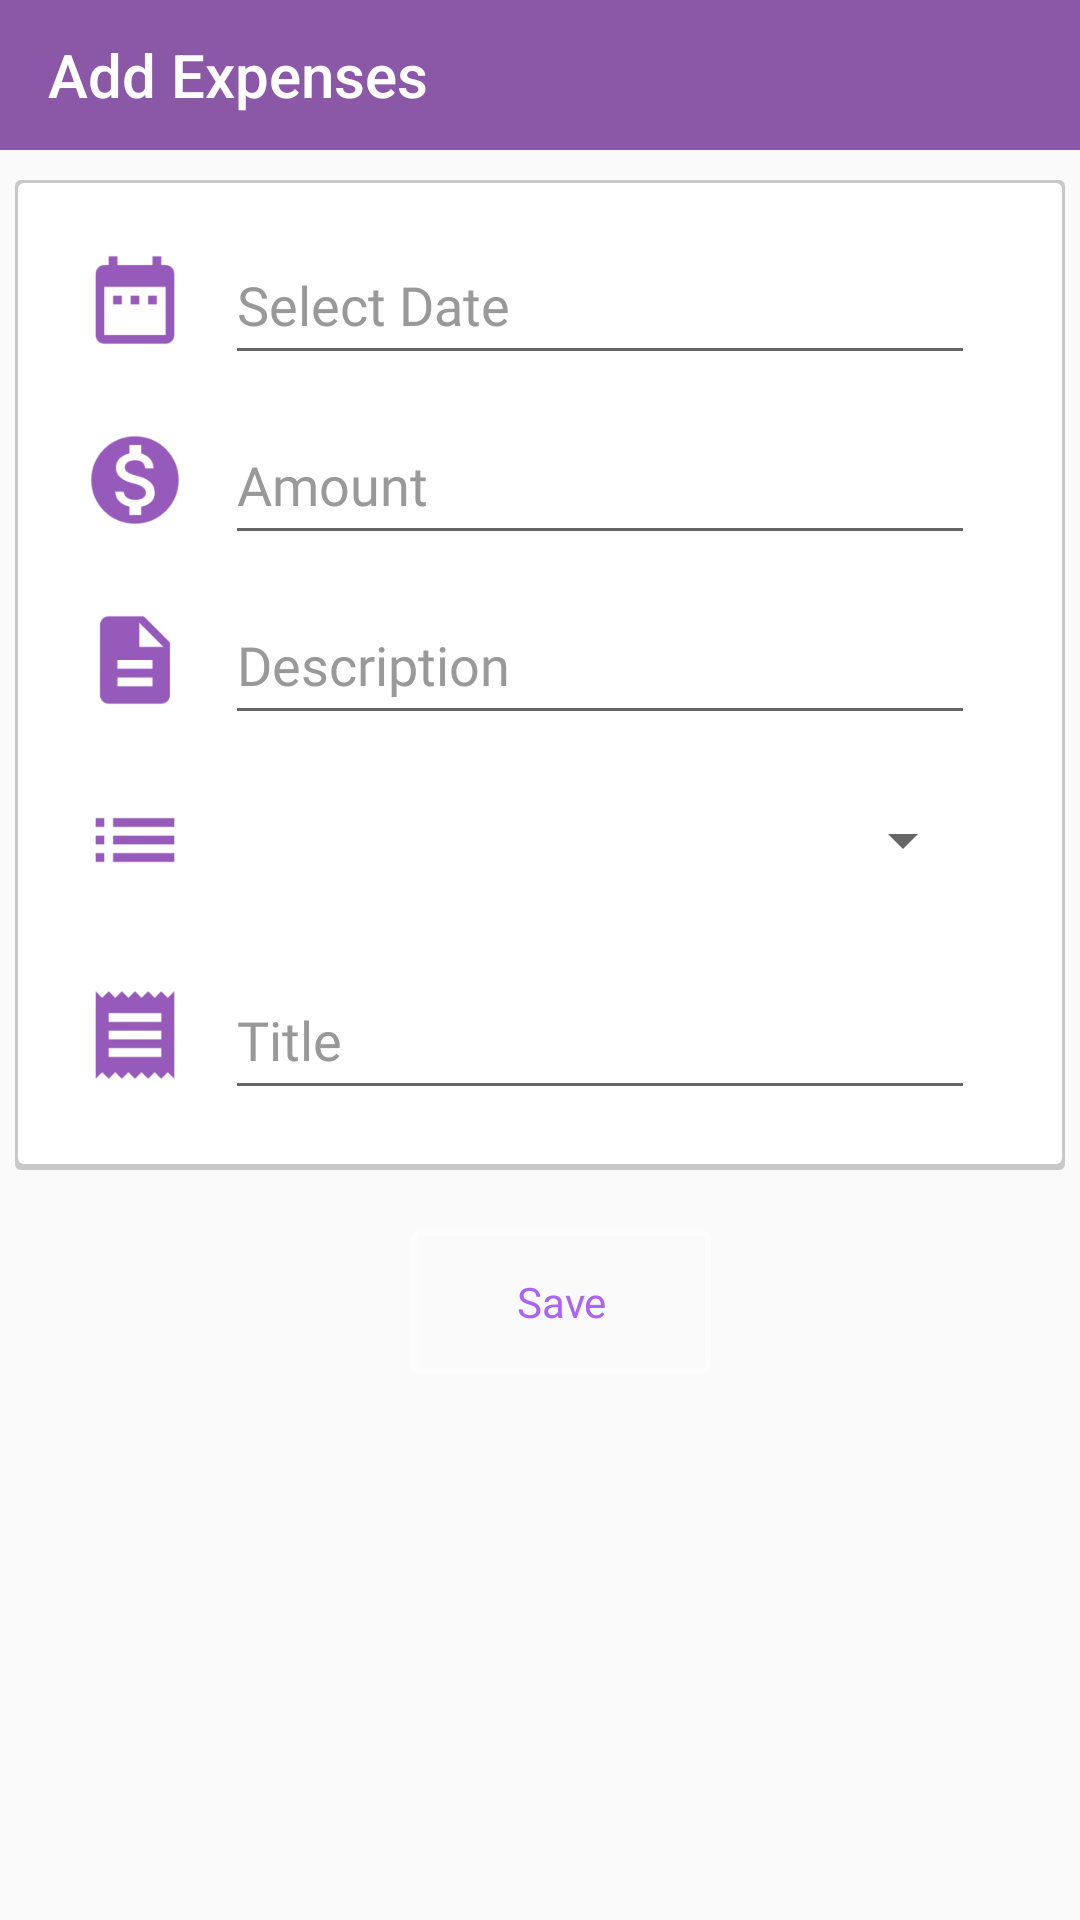

Icons on this 1080px x 1920px Android screen, each with the point to tap as (x,y):
calendar: (135,300)
category: (135,840)
money: (135,480)
